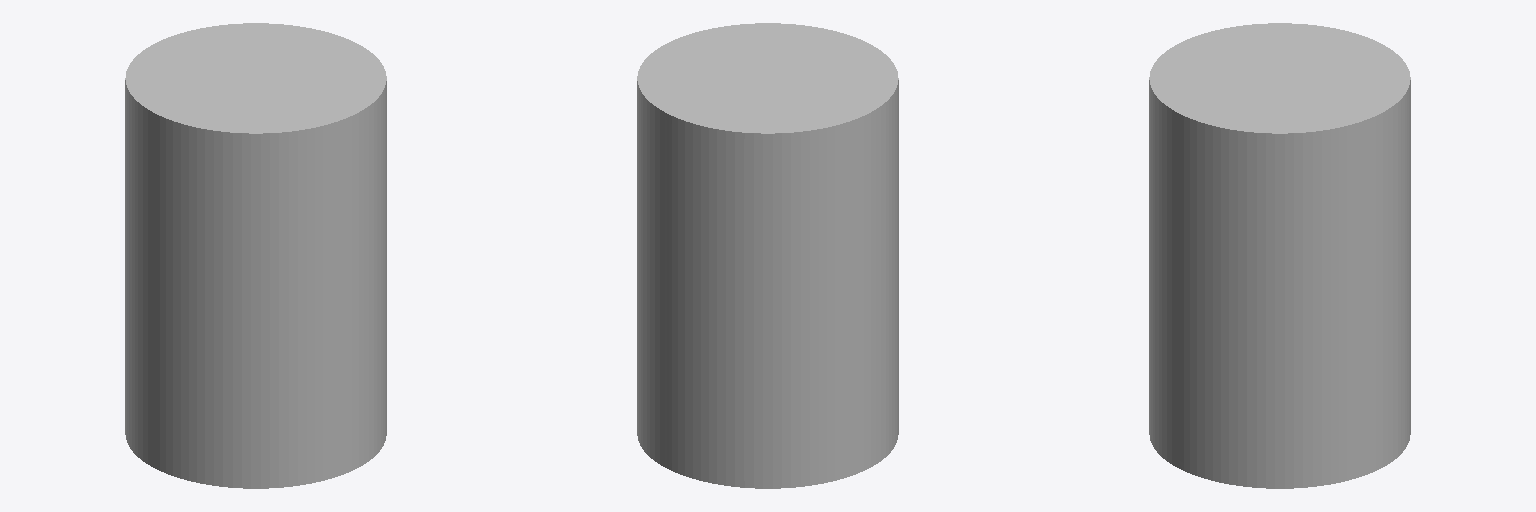
The model's file is 2inBrightYellowCylinder.obj.
The picture shows the model from 3 angles: view 1: azimuth 30°, elevation 25°; view 2: azimuth 150°, elevation 25°; view 3: azimuth 270°, elevation 25°; orthographic projection.
Parts seen in each view (by area): view 1: 2In_V1; view 2: 2In_V1; view 3: 2In_V1.
Part boxes in pixels (x1,y1,x2,y2): 2In_V1: (125, 23, 386, 488); 2In_V1: (637, 23, 898, 488); 2In_V1: (1149, 23, 1410, 488).
Bounding box in the file's own units: 0.0508 × 0.0762 × 0.0508.